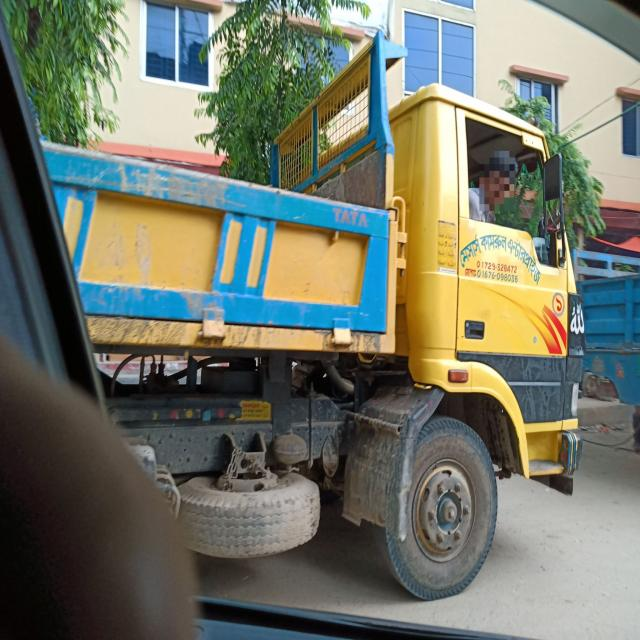truck: (28, 64, 582, 591), (577, 236, 640, 456)
